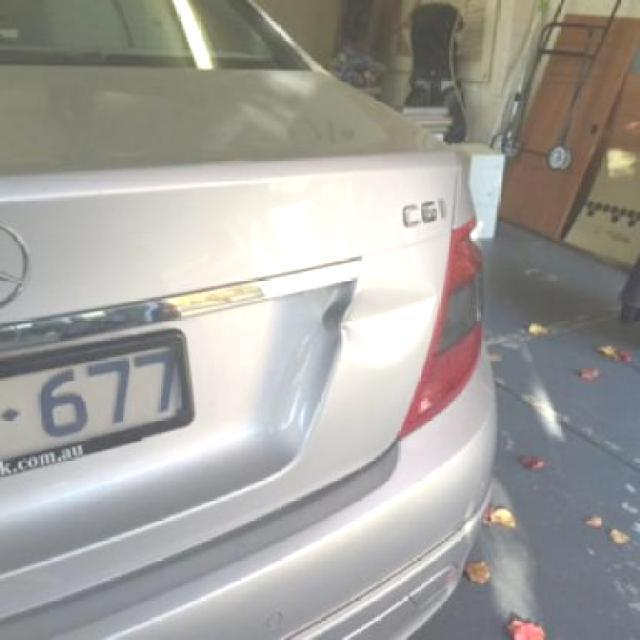minor: (342, 252, 437, 366)
